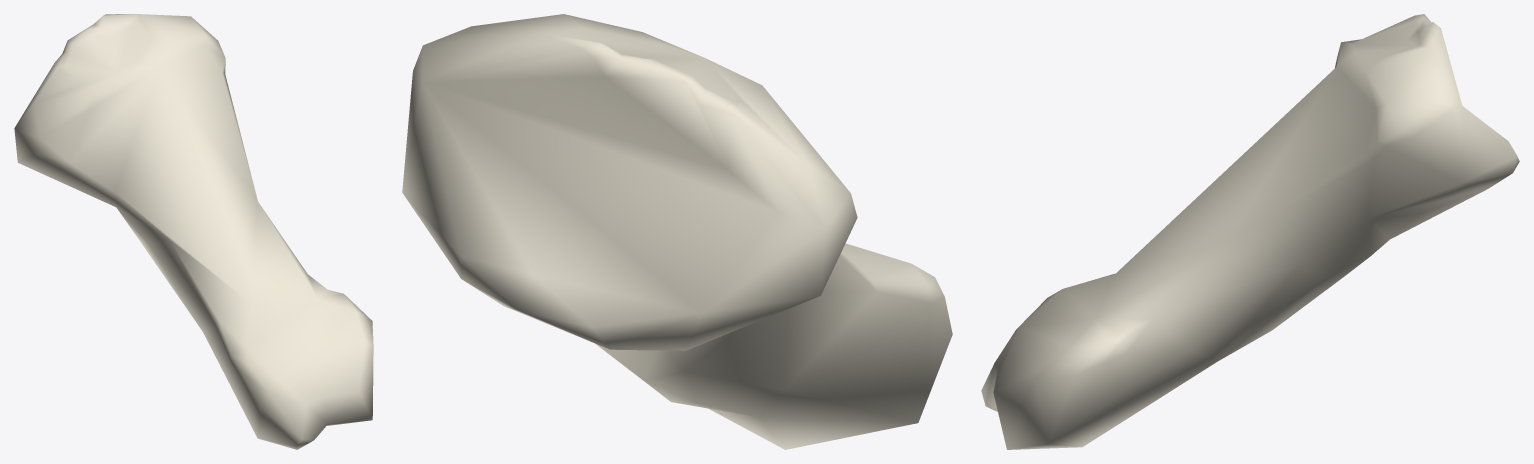
The picture shows the model from 3 angles, left to right: view 1: azimuth 30°, elevation 25°; view 2: azimuth 150°, elevation 25°; view 3: azimuth 270°, elevation 25°; orthographic projection. The views are drawn at different scales.
Visible parts, largest first — view 1: ZA_ab8574e540f5ad41; view 2: ZA_ab8574e540f5ad41; view 3: ZA_ab8574e540f5ad41.
Part boxes in pixels (<box>): ZA_ab8574e540f5ad41: <box>14,14,373,449</box>; ZA_ab8574e540f5ad41: <box>402,14,952,449</box>; ZA_ab8574e540f5ad41: <box>981,14,1519,449</box>.
Size of the model in its own units: 0.0104 by 0.0143 by 0.0176.
